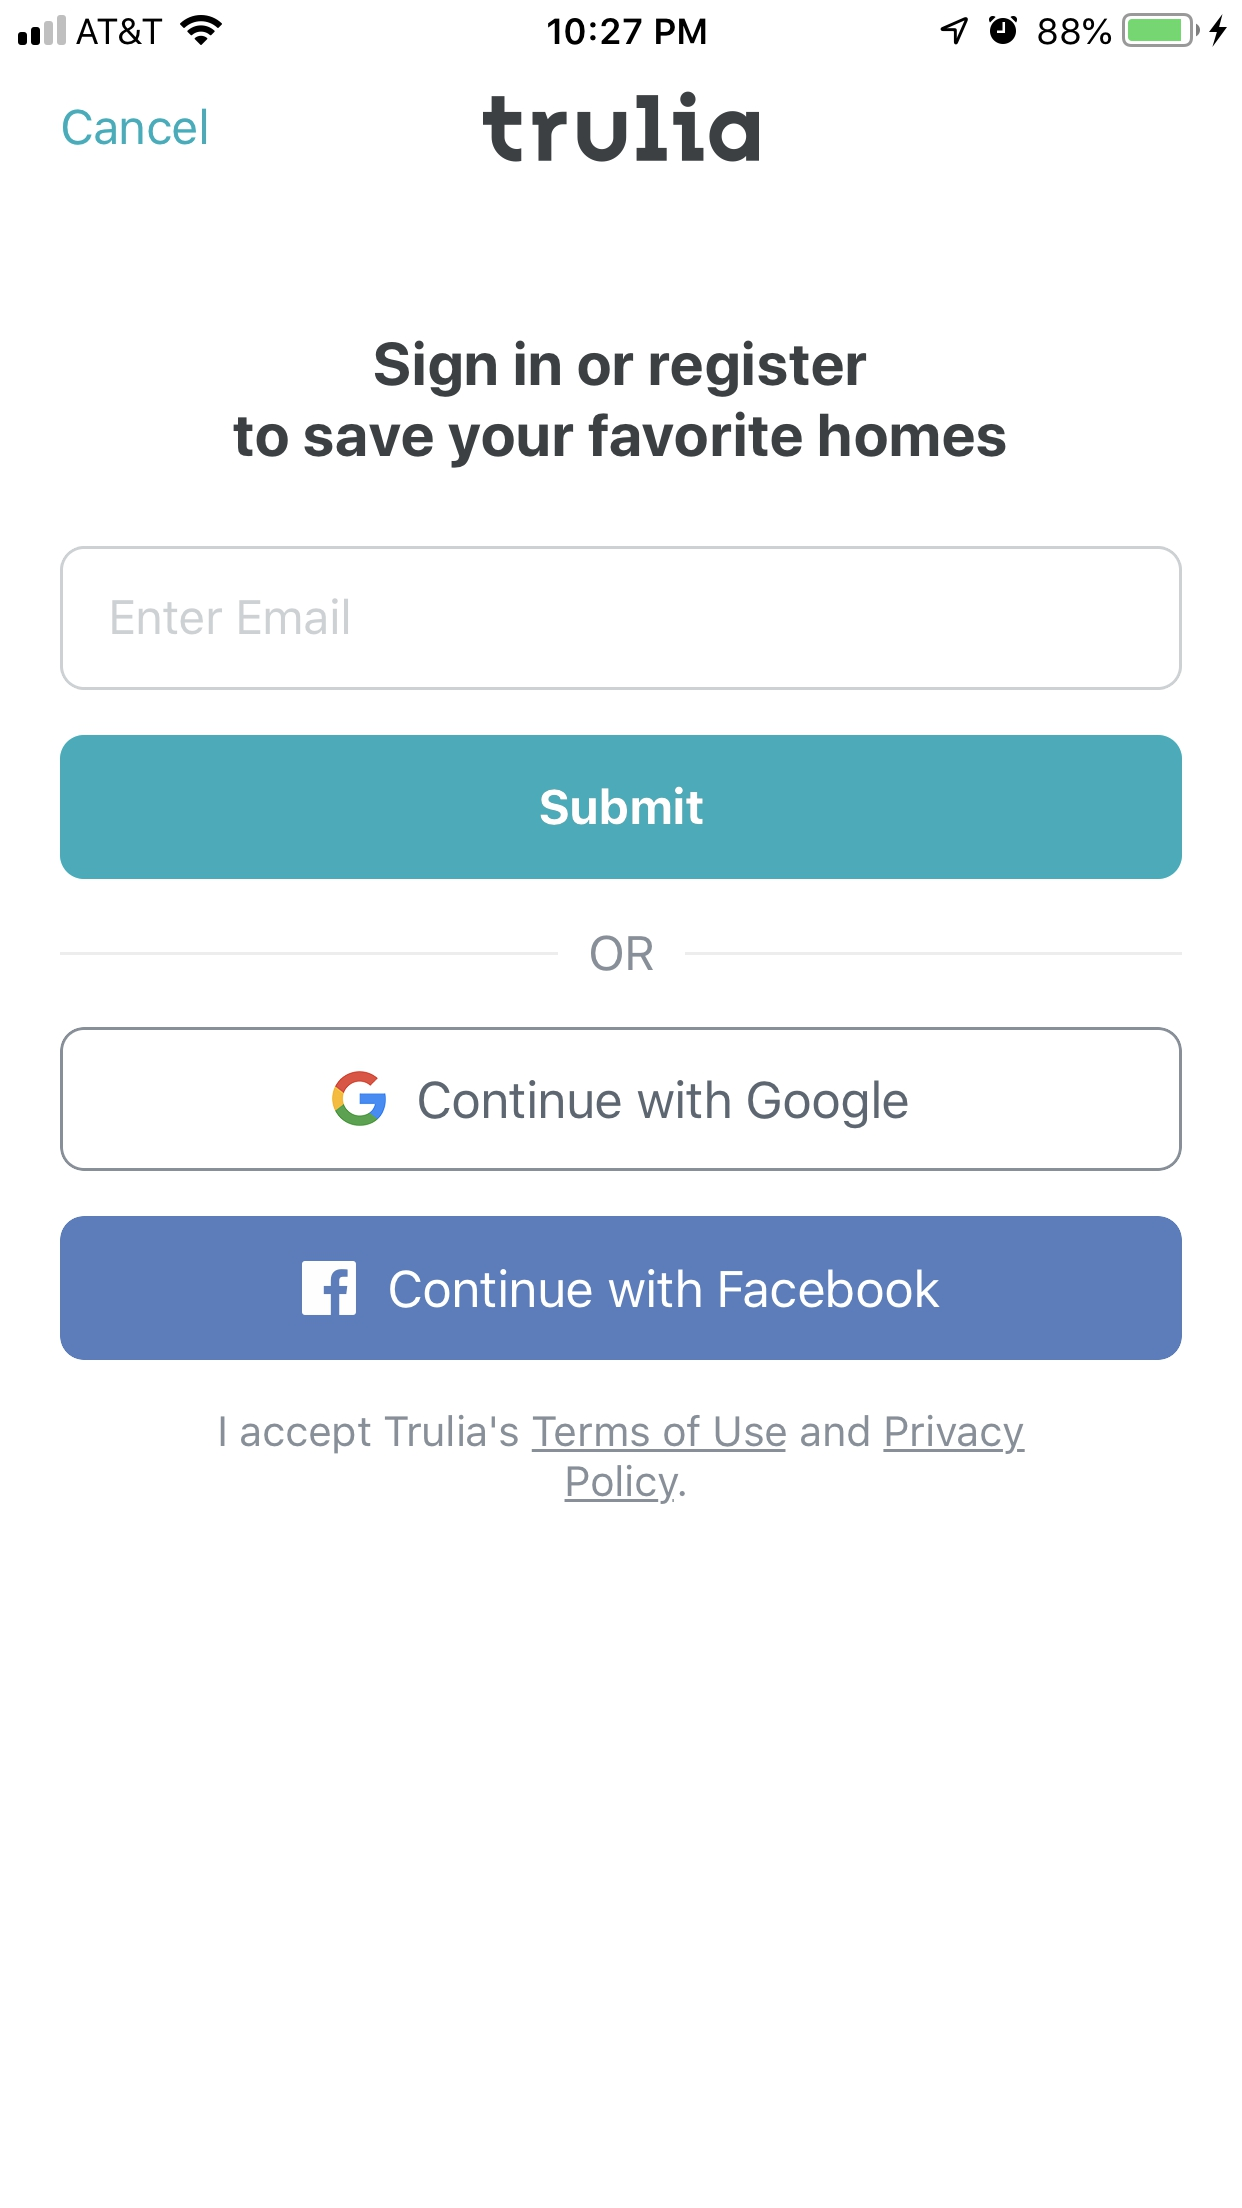EditText: (61, 546, 1183, 692)
Text: (234, 340, 1007, 469), (218, 1415, 1027, 1506), (482, 91, 760, 164), (112, 597, 349, 635), (64, 112, 209, 149), (590, 934, 654, 972)
TextButton: (61, 1215, 1183, 1360), (61, 1027, 1183, 1172), (61, 735, 1183, 880)
UpperTaskBar: (2, 2, 1242, 49)
